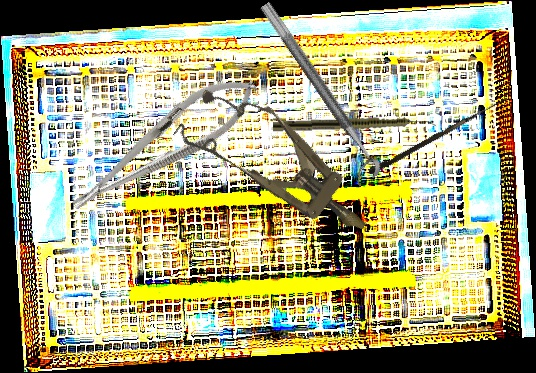Fixation Ring: (245, 1, 385, 187)
Handpiece: (272, 115, 437, 134)
Hook Surgical: (368, 91, 507, 178)
Needle Holder: (58, 60, 269, 228)
Speculum: (170, 70, 389, 261)
